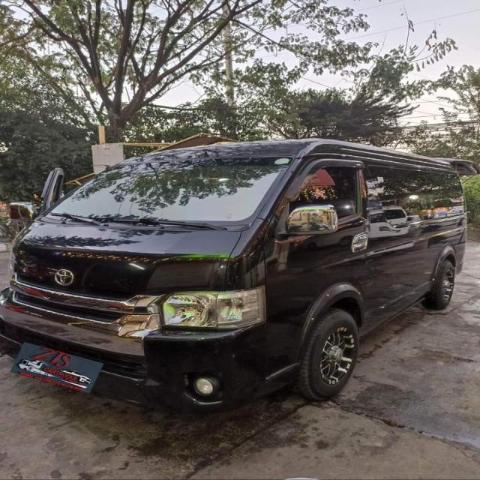van: (1, 134, 473, 421)
